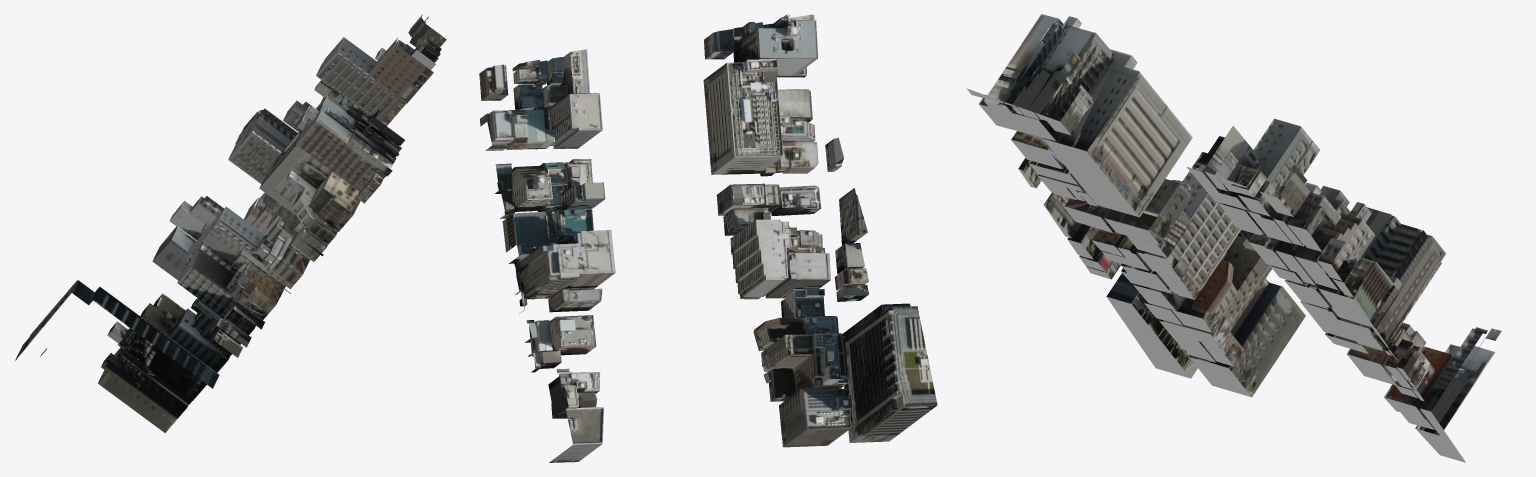
Rendered from 39537_bldg_Building.glb.
3 views of the same model, side by side, from view 1: azimuth 30°, elevation 25°; view 2: azimuth 150°, elevation 25°; view 3: azimuth 270°, elevation 25° (orthographic). The views are drawn at different scales.
Bounding box in the file's own units: 183 × 138 × 163.
4 materials, 3 textured.
